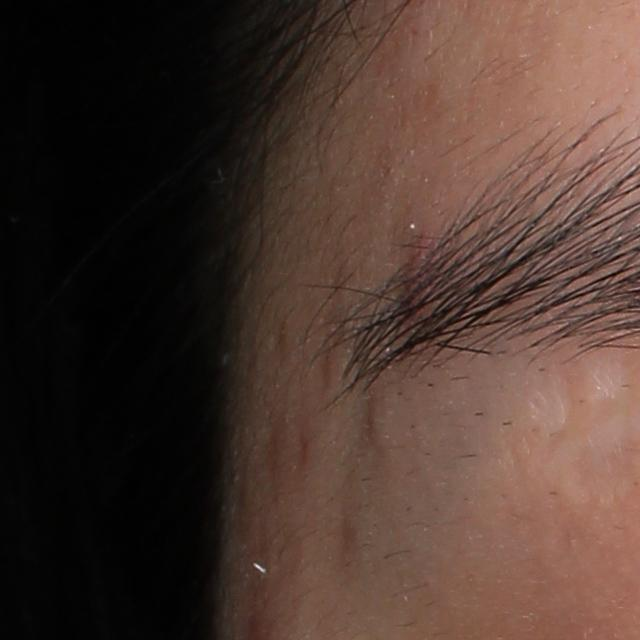other: (514, 360, 578, 448), (574, 348, 635, 420)
